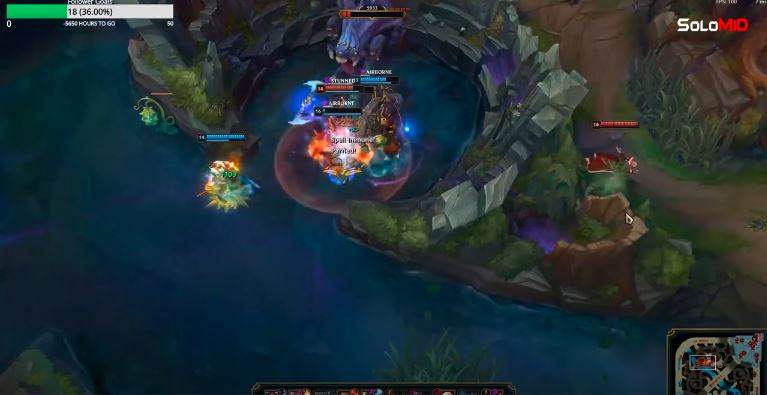bar: (348, 75, 401, 87), (314, 106, 365, 118), (195, 132, 251, 142), (591, 119, 642, 129), (328, 85, 377, 94), (316, 84, 365, 92)
